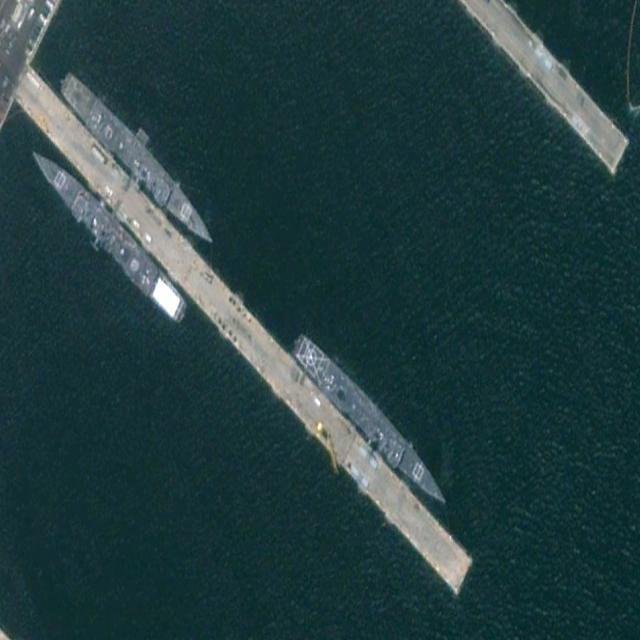Frigate: (27, 133, 191, 333), (287, 325, 454, 516), (56, 63, 220, 255)
